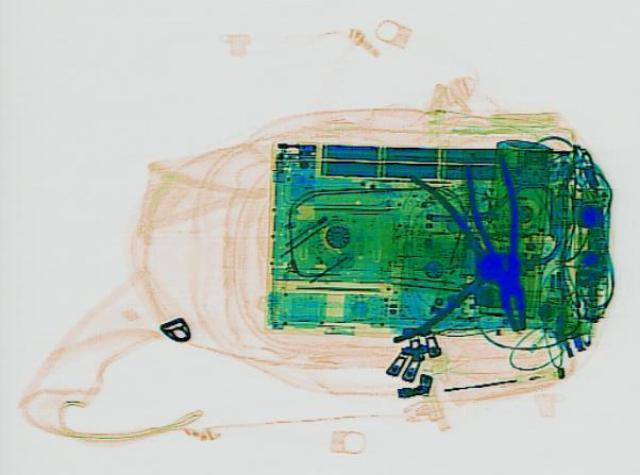Pliers: (386, 171, 504, 340), (458, 153, 544, 330)
